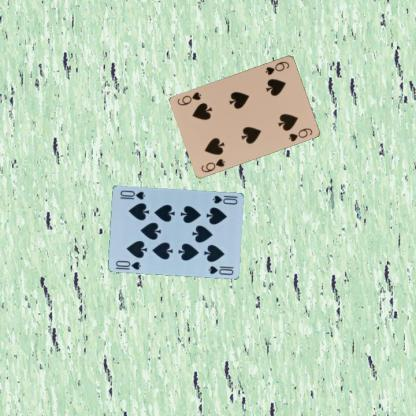10s: (210, 192, 239, 206), (113, 258, 142, 272)
6s: (263, 58, 291, 76), (198, 156, 226, 173)
